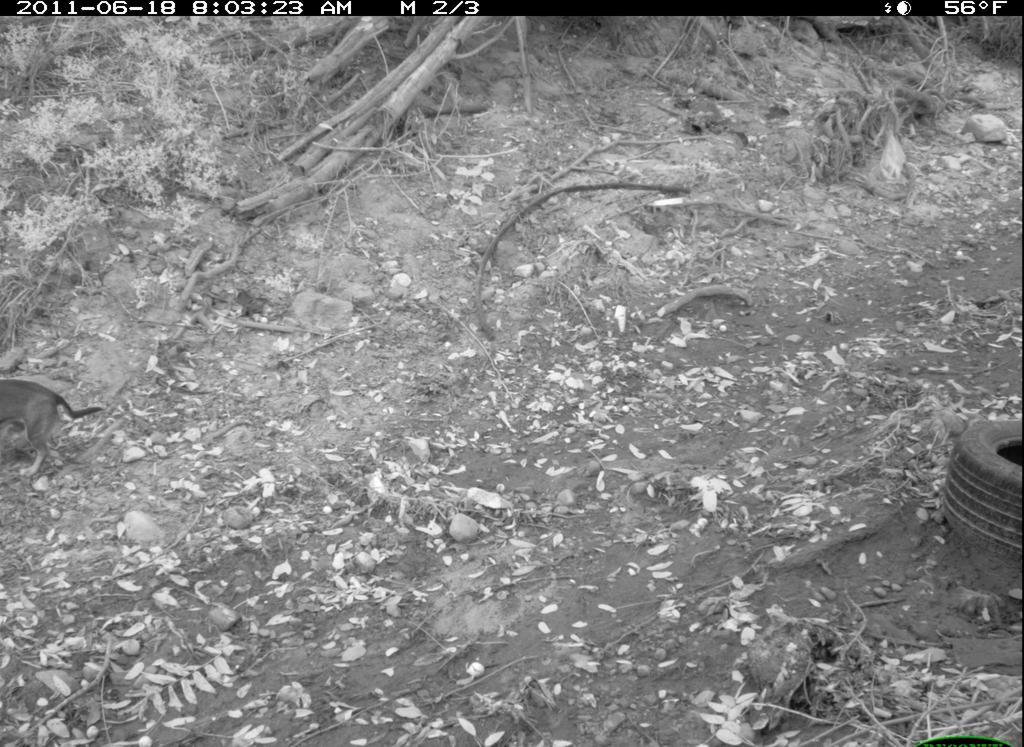dog: (2, 356, 109, 493)
